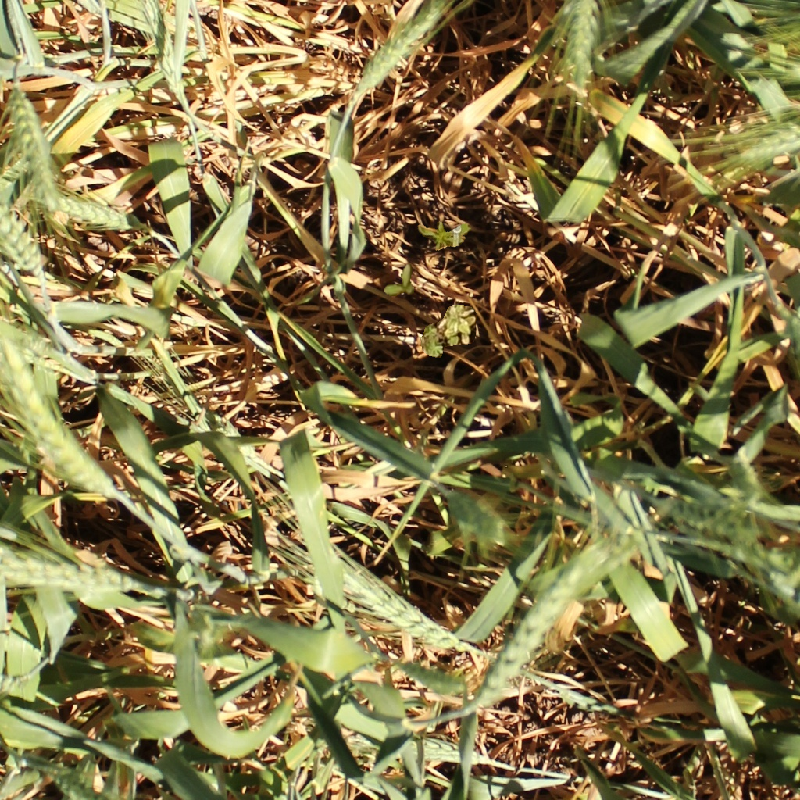spikelet: (475, 537, 624, 706), (4, 362, 121, 501), (339, 565, 470, 655), (348, 1, 450, 108), (1, 545, 133, 603), (1, 83, 58, 199), (647, 491, 761, 549), (140, 1, 193, 113), (1, 189, 48, 276), (559, 1, 603, 86), (50, 192, 133, 231), (735, 116, 799, 165), (48, 760, 101, 800)
weed: (416, 203, 476, 260), (421, 305, 477, 358), (384, 263, 414, 296)
